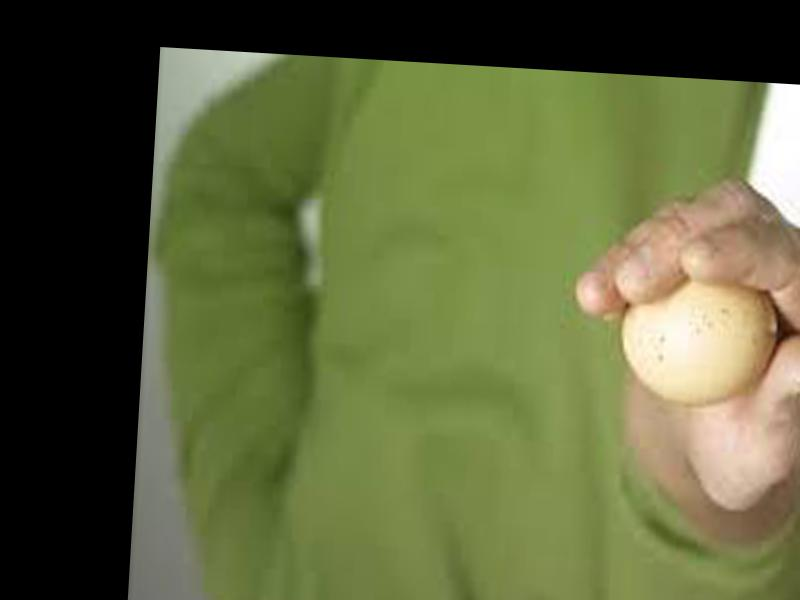Eggs: (617, 274, 779, 408)
